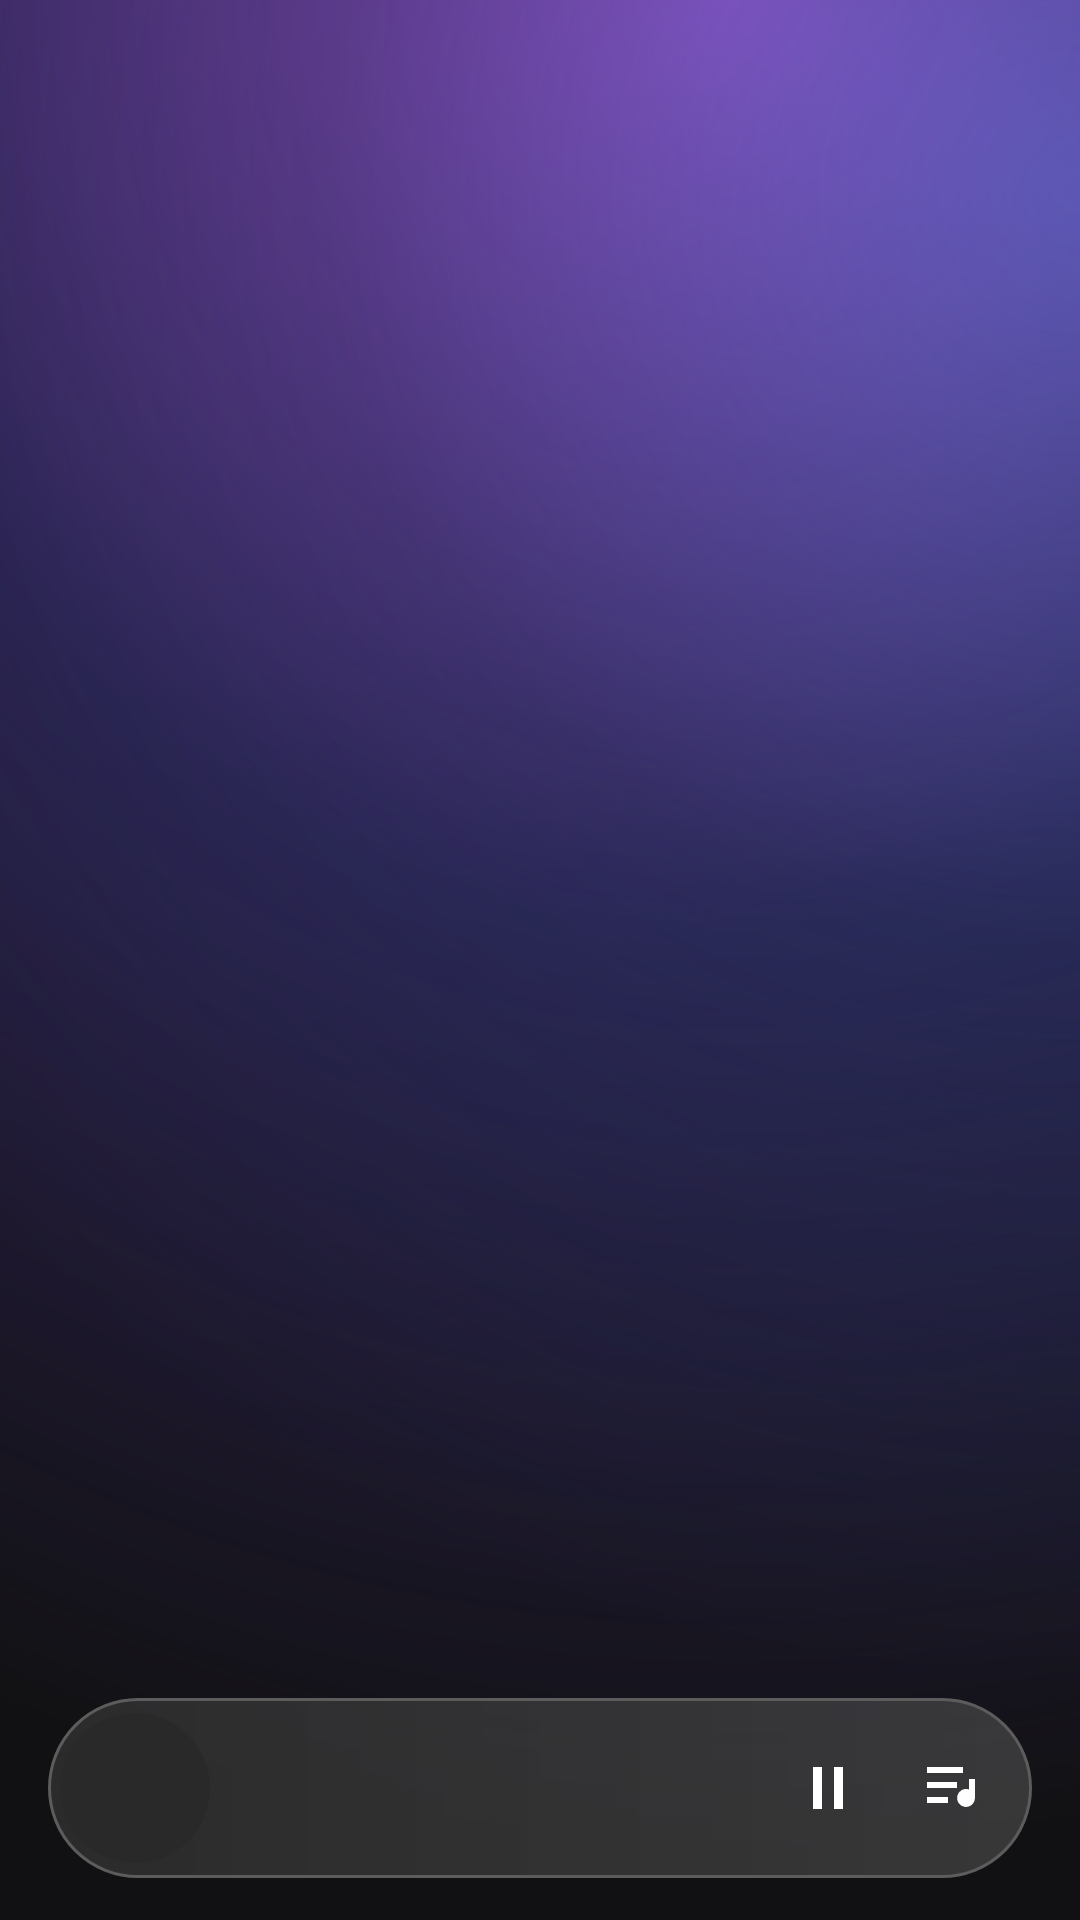

Where to tap for icons on this 1080×1920 app screen, as point (x, y):
Pause: point (828, 1788)
Play queue: point (951, 1787)
